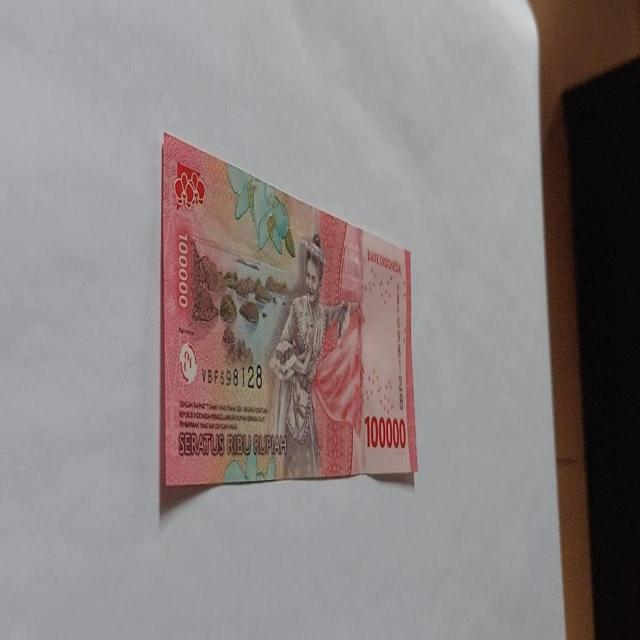Kertas: (160, 130, 418, 495), (363, 413, 407, 451)
